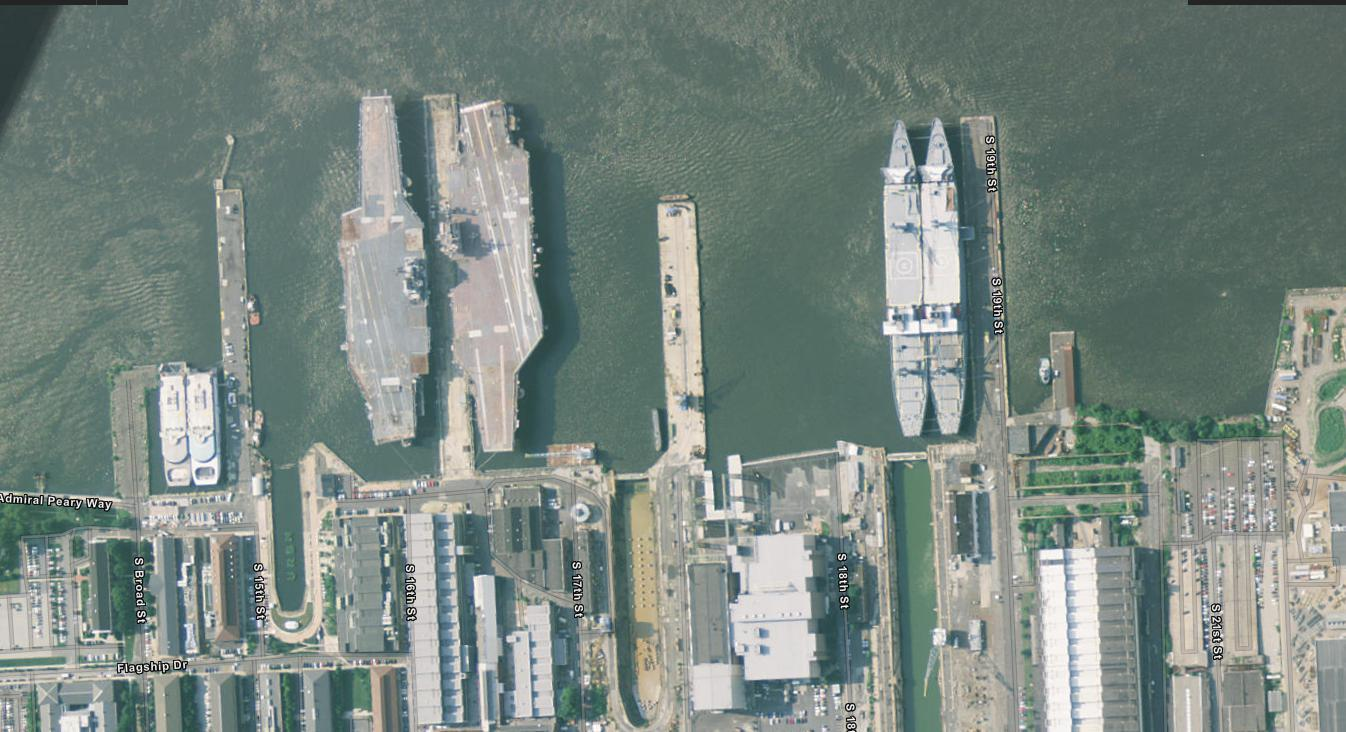carrier: (446, 85, 561, 464), (331, 77, 441, 454)
